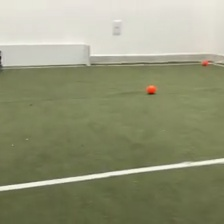ball: (145, 83, 156, 95), (200, 56, 210, 66)
goal: (1, 42, 93, 68)
